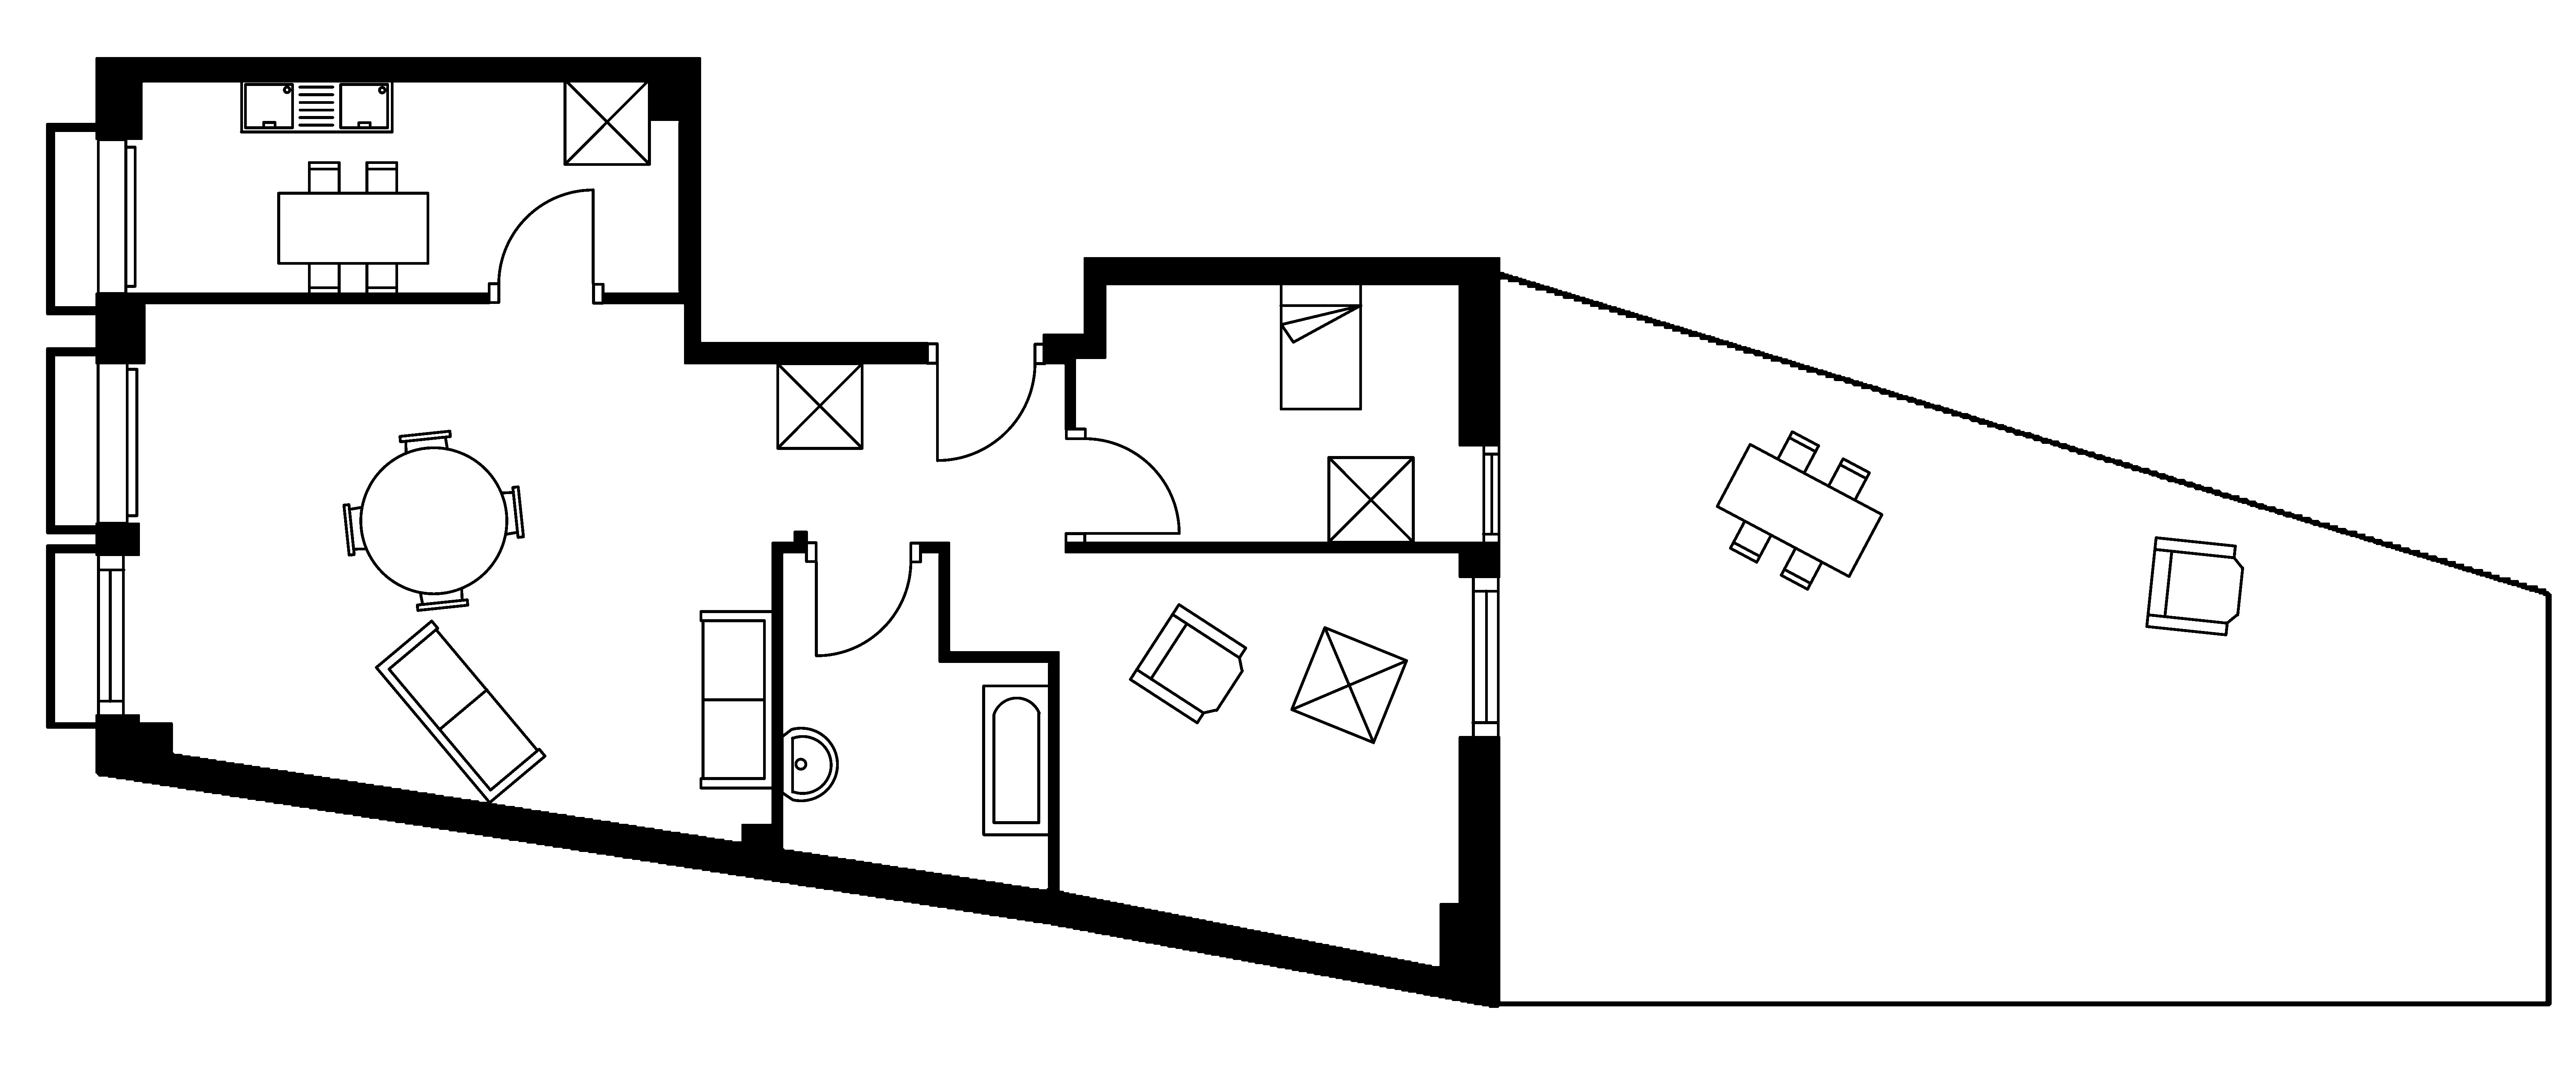armchair: (1129, 602, 1247, 725), (2144, 536, 2244, 636)
bed: (1278, 281, 1362, 411)
coffee_table: (1290, 625, 1408, 745), (562, 77, 651, 166), (775, 362, 864, 451), (1326, 456, 1414, 544)
dining_table: (1715, 429, 1884, 590), (276, 160, 430, 296)
large_sofa: (375, 618, 547, 804), (698, 610, 774, 789)
round_table: (342, 429, 526, 612)
small_sink: (780, 727, 838, 803)
tub: (981, 684, 1051, 837)
twin_sink: (238, 77, 394, 133)
